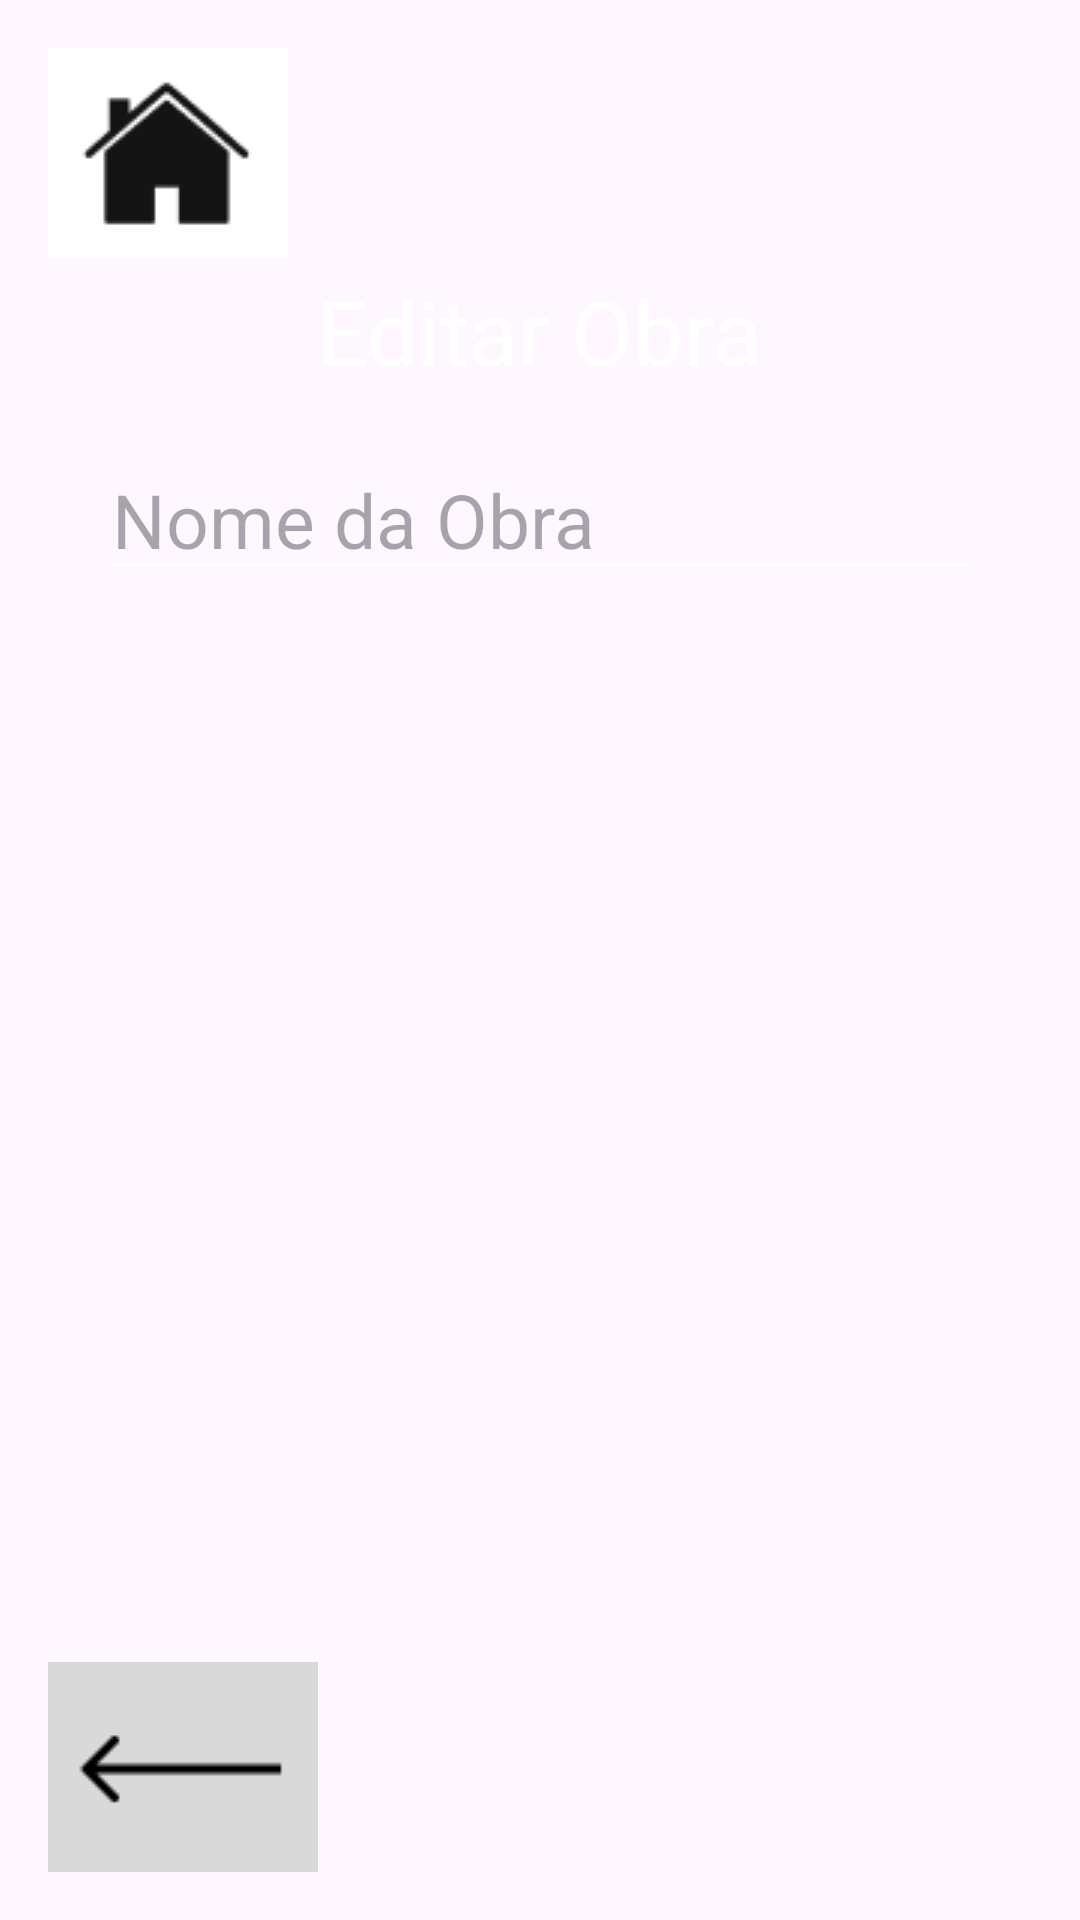

Icons on this 1080 x 1920 Android screen, each with the point to tap as point (x, y):
botaovoltar: point (183, 1767)
